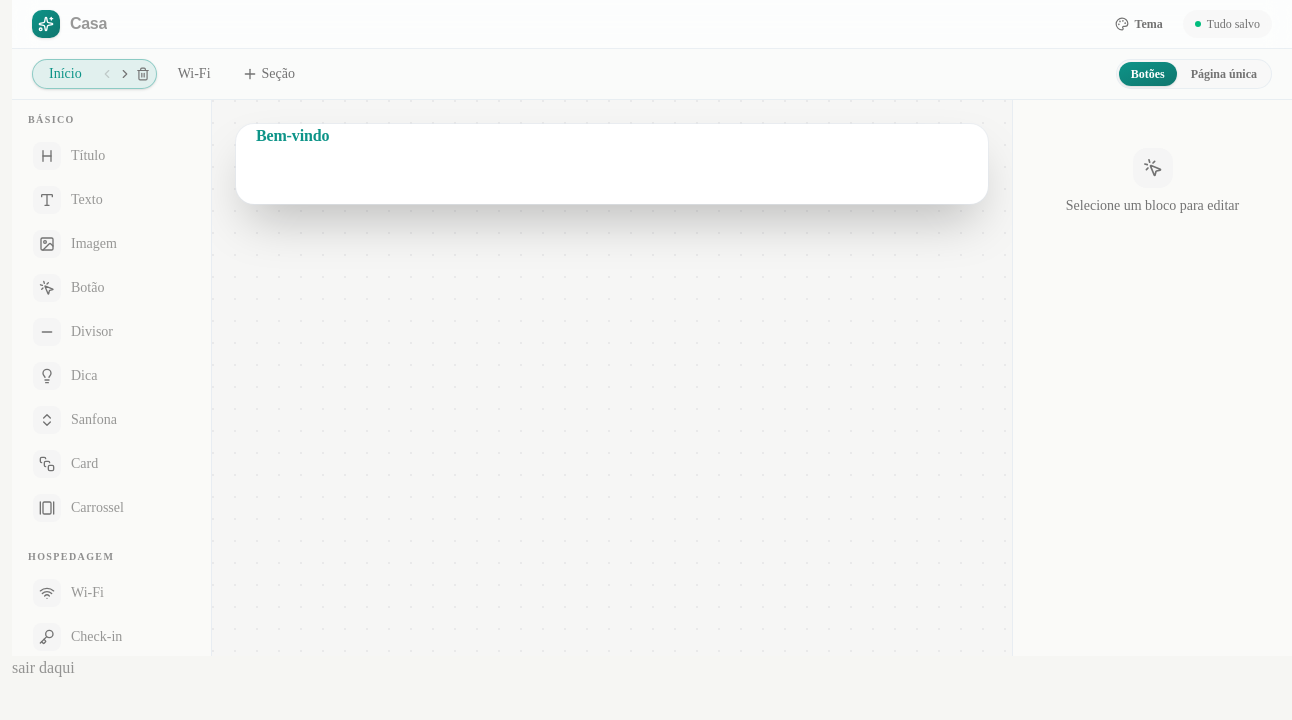
Test case: Builder › switching section tab changes the previewed section
Click the 1st button "Wi-Fi": click(194, 74) [166,62,223,86]
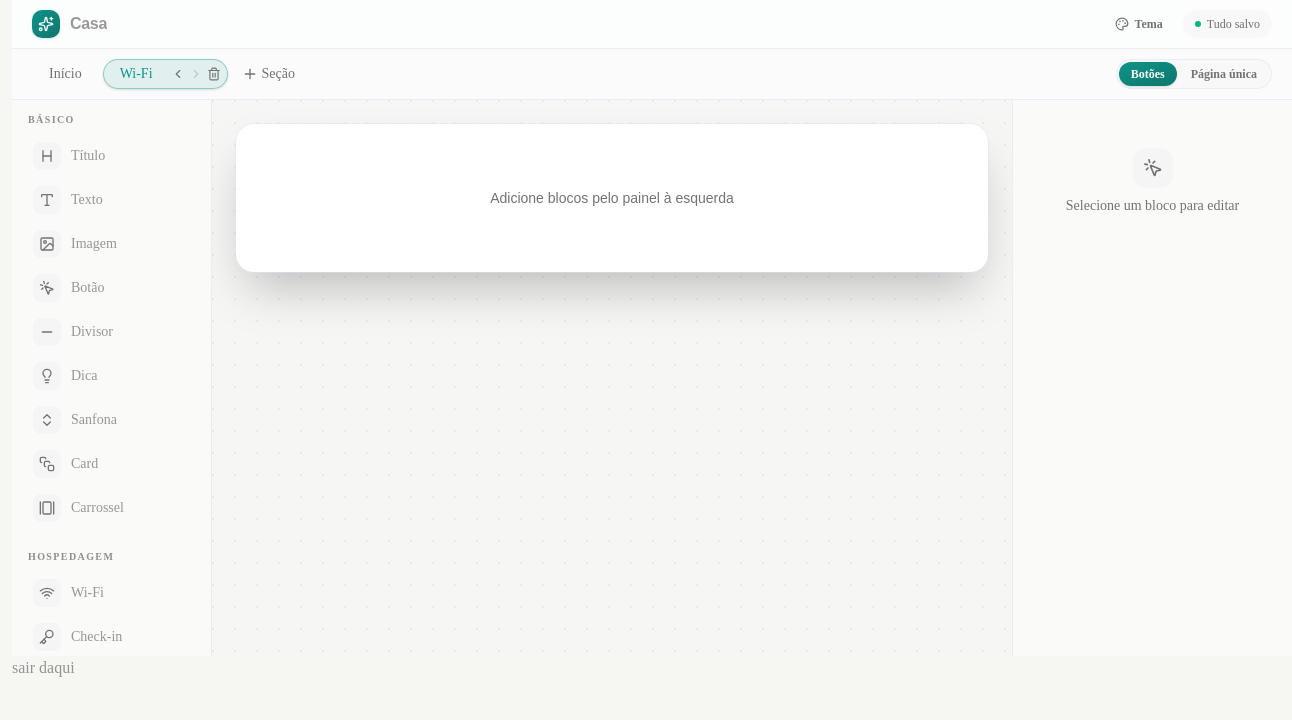
Check: the heading "Bem-vindo" is gone
